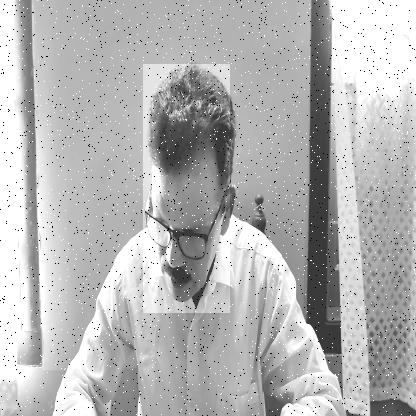Distracted: (143, 64, 230, 313)
